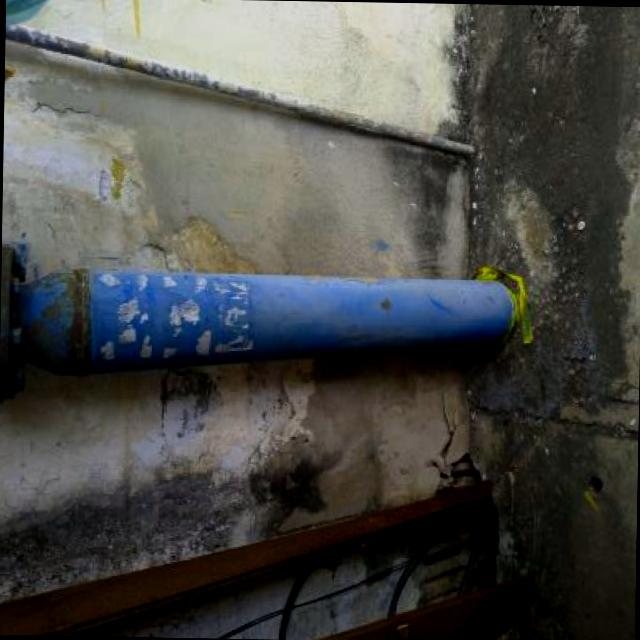gas: (8, 268, 499, 371)
